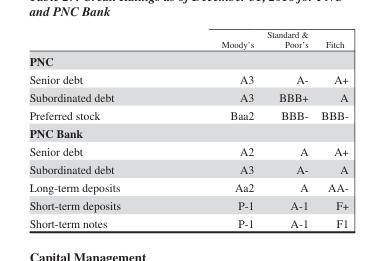table: (28, 29, 347, 229)
table column: (28, 29, 170, 229), (170, 29, 259, 229), (259, 29, 314, 229), (314, 29, 347, 229)
table column header: (28, 29, 347, 51)
table projected row header: (28, 123, 347, 142), (28, 51, 347, 69)
table row: (28, 29, 347, 51), (28, 123, 347, 142), (28, 51, 347, 69), (28, 69, 347, 87), (28, 87, 347, 105), (28, 105, 347, 123), (28, 142, 347, 160), (28, 160, 347, 178), (28, 178, 347, 196), (28, 196, 347, 214), (28, 214, 347, 229)
